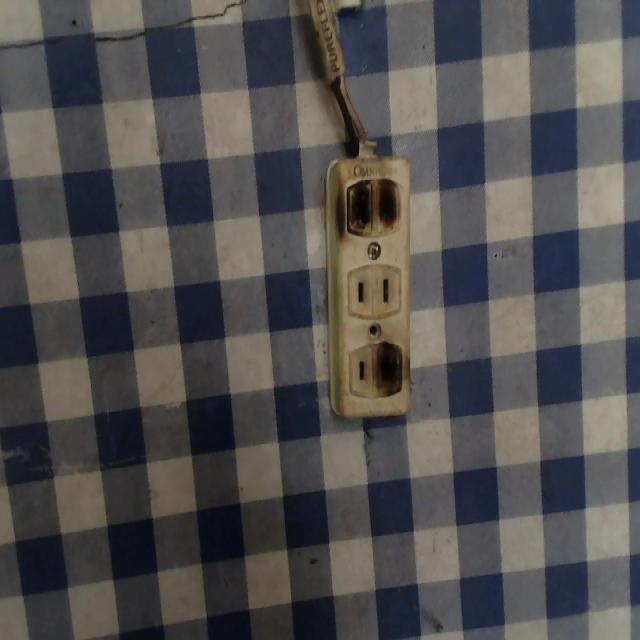-: (333, 170, 412, 246), (367, 335, 409, 404)
